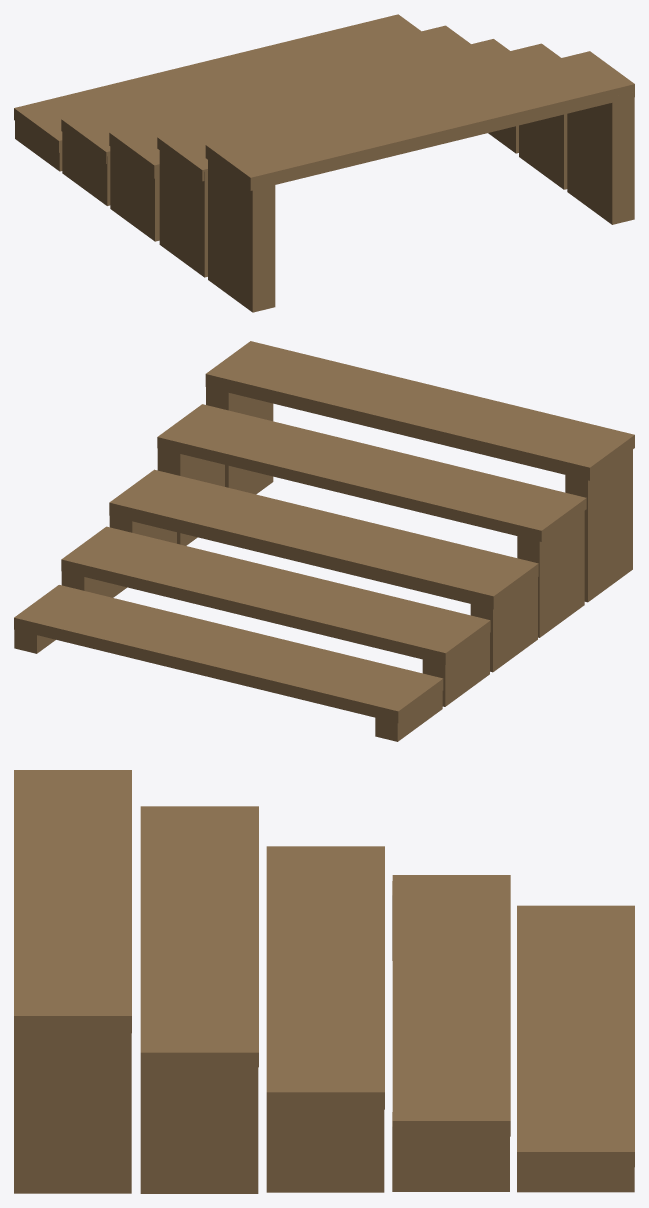
Rendered from StageStairs.fbx.
3 views of the same model, one above another, from view 1: azimuth 30°, elevation 25°; view 2: azimuth 150°, elevation 25°; view 3: azimuth 270°, elevation 25° (orthographic). The views are drawn at different scales.
Parts seen in each view (by area): view 1: pasted__polySurface43; view 2: pasted__polySurface43; view 3: pasted__polySurface43.
Part boxes in pixels (x1,y1,x2,y2): pasted__polySurface43: (14, 14, 634, 312); pasted__polySurface43: (14, 341, 634, 741); pasted__polySurface43: (14, 770, 634, 1193).
Size of the model in its own units: 1.38 by 0.4659 by 1.47.
